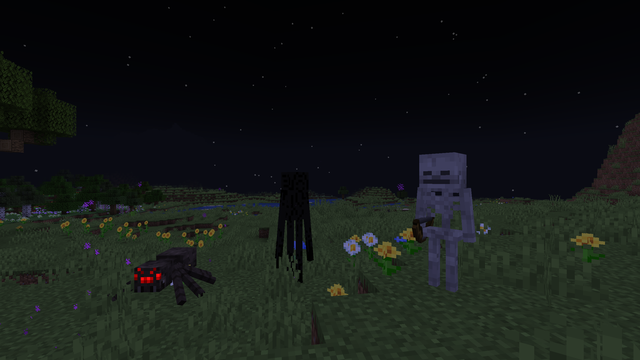araignees: (112, 245, 204, 310)
endermens: (282, 168, 307, 289)
squelettes: (413, 153, 474, 297)
